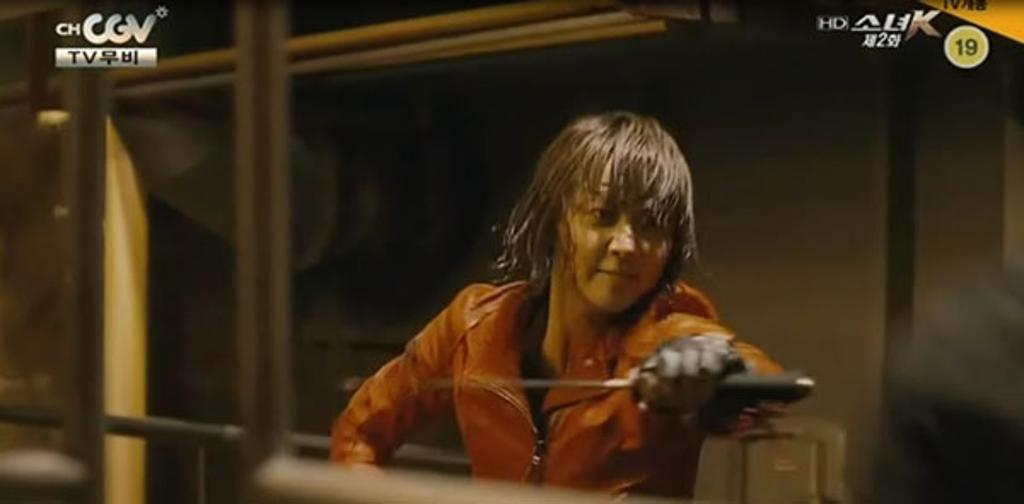face: (562, 178, 676, 308)
